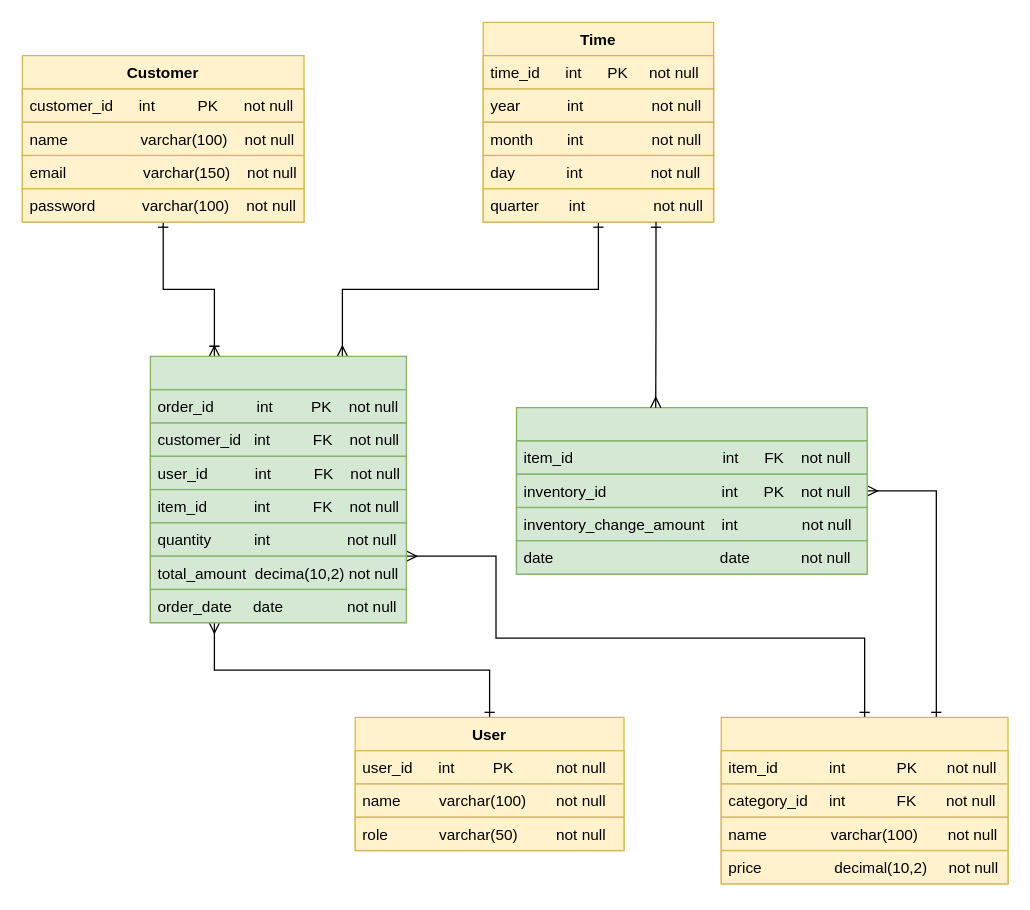
This 1030x910 diagram has some shape labels left out. The shapes that lost their labels are listed below. From the top down, each one's box as (x1, y1, x2, y2) in pixels, then its label:
(149, 355, 406, 623): SalesFact
(515, 406, 867, 574): InventoryFact
(720, 716, 1008, 884): Product
